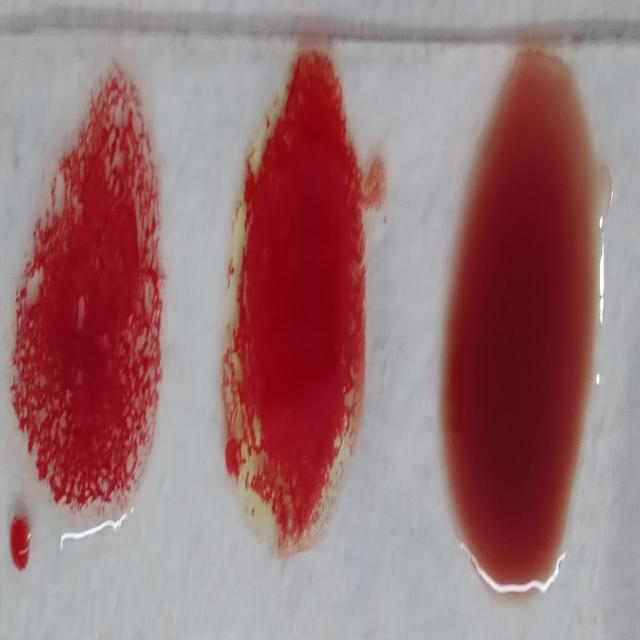B: (230, 44, 368, 582)
D: (20, 57, 165, 560)
